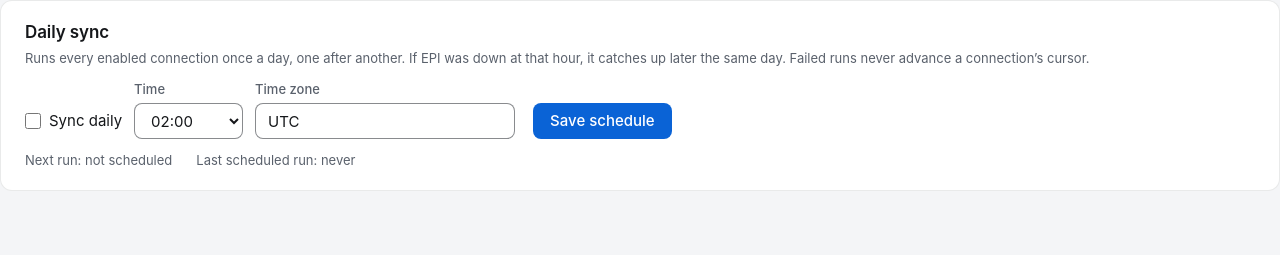
Test: SyncScheduleCard › shows server validation errors
The width and height of the screenshot is (1280, 255).
Click the button "Save schedule": (602, 121) [533,103,672,139]
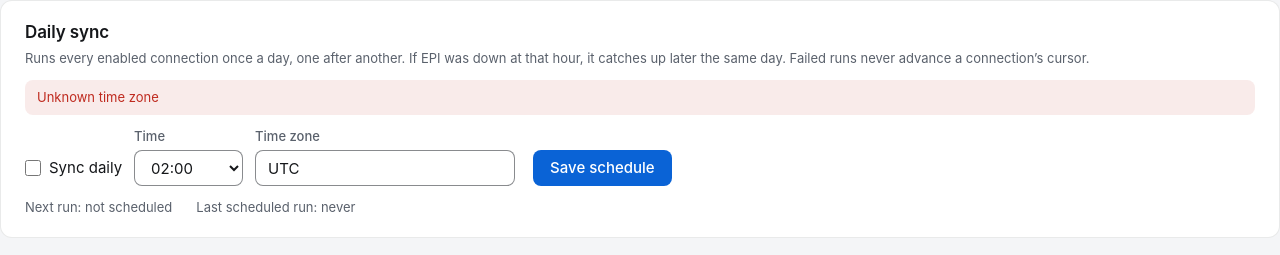
Expected: the message reads "Unknown time zone", [37,89,159,105]
